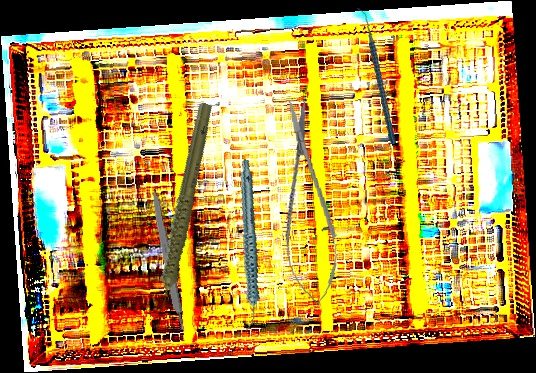Chopper: (339, 7, 412, 145)
Handpiece: (105, 100, 255, 320), (210, 158, 286, 333)
Micro Scissor: (270, 97, 345, 308)
Scalpel Handle: (148, 188, 186, 332)
